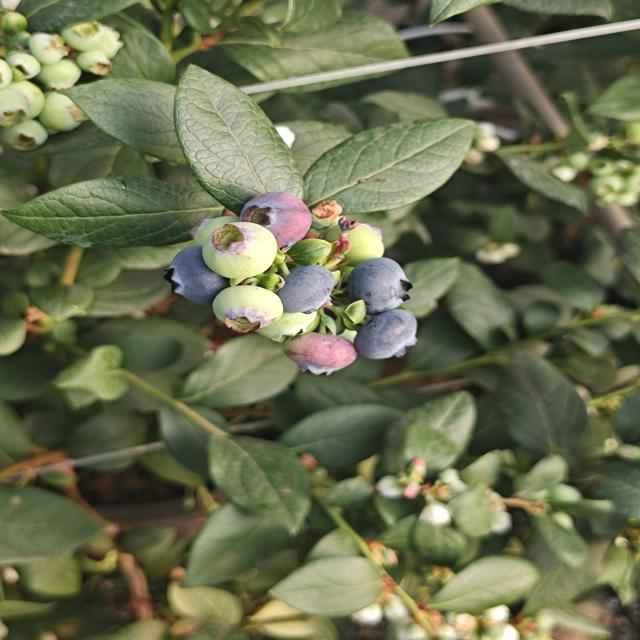ripe: (160, 240, 238, 307), (353, 307, 423, 367), (236, 186, 308, 242), (342, 258, 418, 308), (274, 256, 336, 317)
